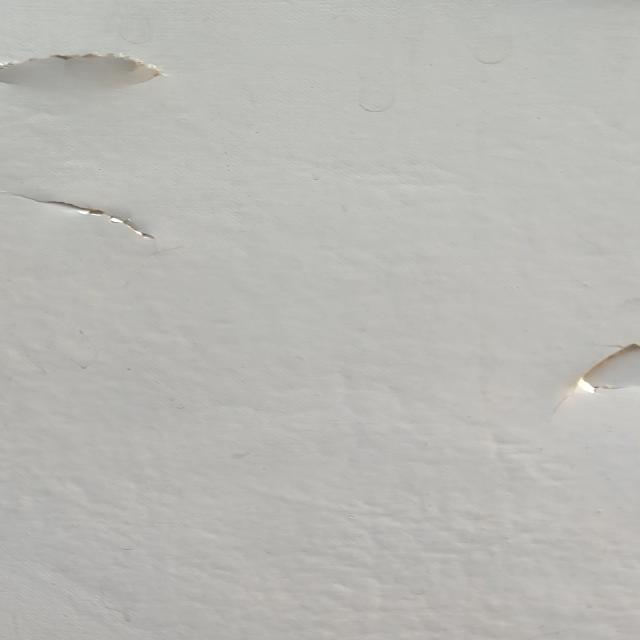Scratches: (3, 182, 177, 263), (1, 42, 181, 106), (552, 322, 640, 402)
